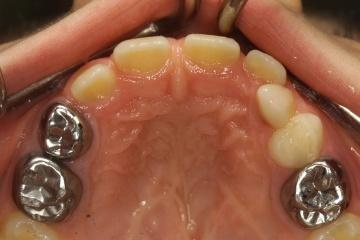crown: (12, 146, 84, 225), (279, 157, 354, 226), (36, 99, 99, 160)
